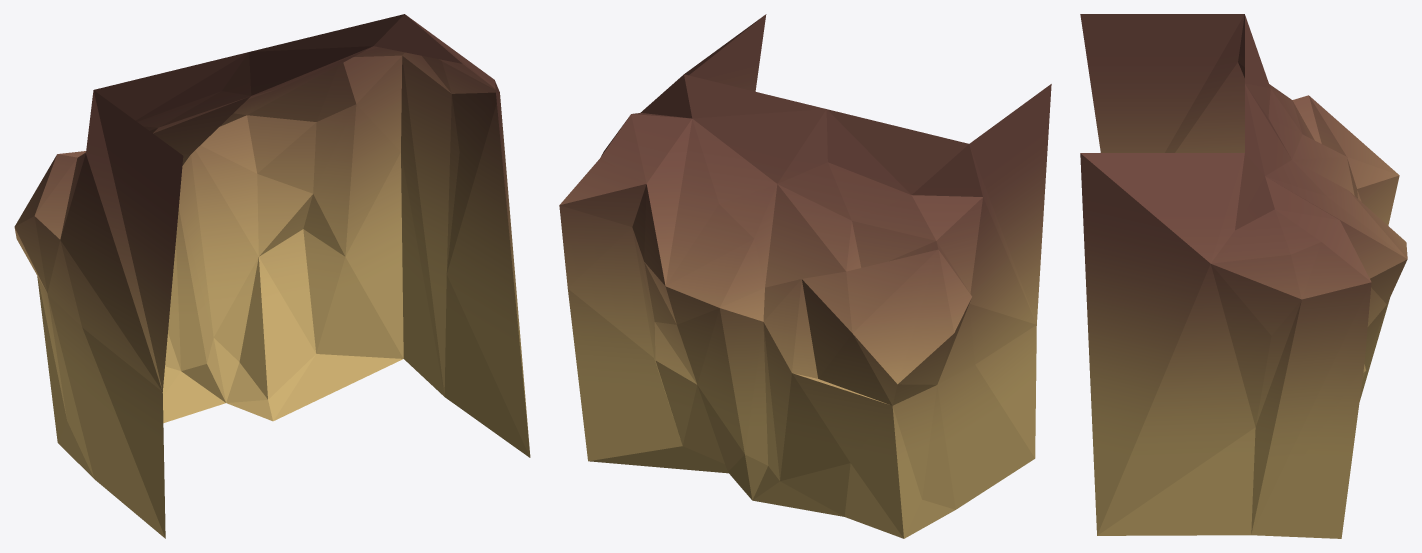
Rendered from Cliff4.fbx.
The picture shows the model from 3 angles, left to right: view 1: azimuth 30°, elevation 25°; view 2: azimuth 150°, elevation 25°; view 3: azimuth 270°, elevation 25°; orthographic projection. The views are drawn at different scales.
Parts seen in each view (by area): view 1: Cliff4; view 2: Cliff4; view 3: Cliff4.
Boxes of the visible parts, bbox=[...] form: Cliff4: bbox=[14, 14, 530, 538]; Cliff4: bbox=[559, 14, 1051, 538]; Cliff4: bbox=[1080, 14, 1407, 538].
Bounding box in the file's own units: 135 × 122 × 99.48.
